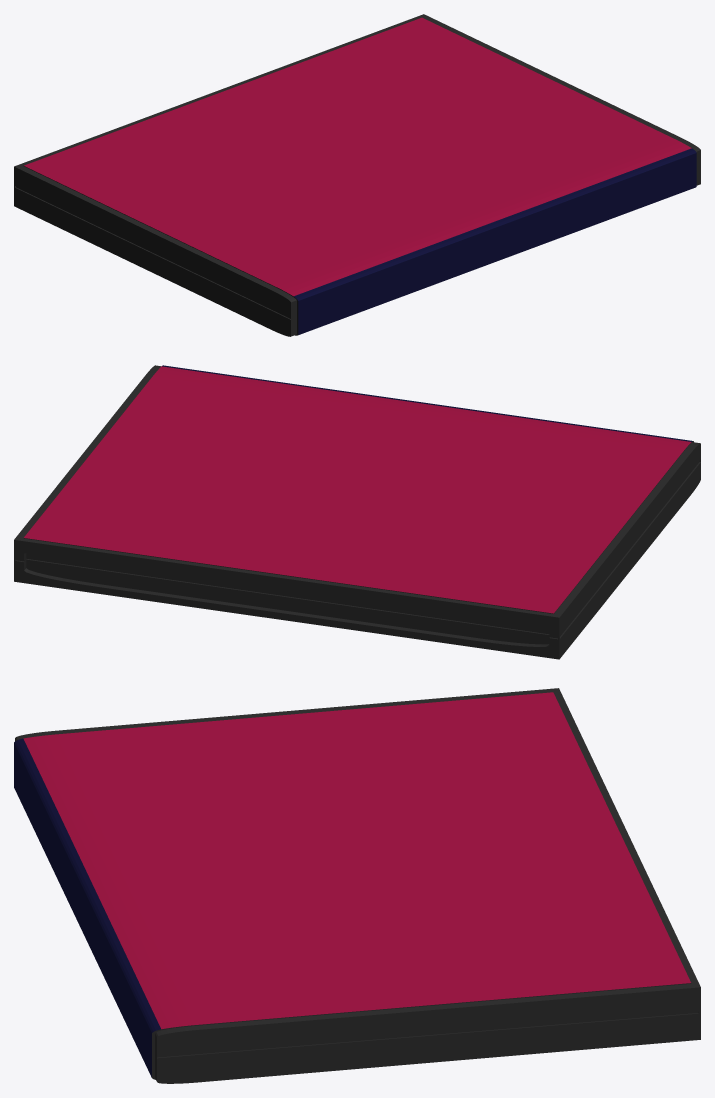
The model's file is GameCase.fbx.
3 views of the same model, one above another, from view 1: azimuth 30°, elevation 25°; view 2: azimuth 150°, elevation 25°; view 3: azimuth 270°, elevation 25° (orthographic). The views are drawn at different scales.
Visible parts, largest first — view 1: Games; view 2: Games; view 3: Games.
Boxes of the visible parts, x1,y1,x2,y2 form: Games: (14, 14, 700, 336); Games: (14, 365, 700, 659); Games: (14, 688, 700, 1083).
Bounding box in the file's own units: 196 × 14.26 × 165.
